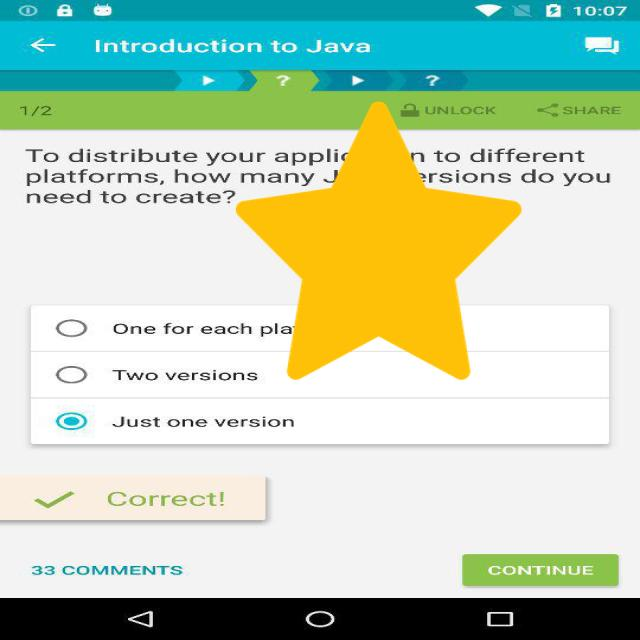forced continuity: (236, 101, 521, 380)
